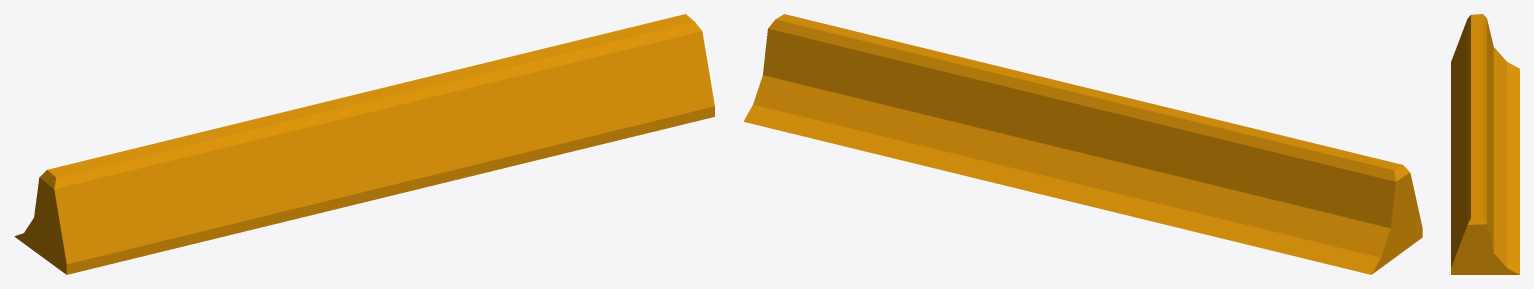
The model's file is SmallBarrier.fbx.
3 views of the same model, side by side, from view 1: azimuth 30°, elevation 25°; view 2: azimuth 150°, elevation 25°; view 3: azimuth 270°, elevation 25° (orthographic). The views are drawn at different scales.
Visible parts, largest first — view 1: SmallBarrier; view 2: SmallBarrier; view 3: SmallBarrier.
Part boxes in pixels (left/top/right/bottom): SmallBarrier: left=14, top=14, right=714, bottom=274; SmallBarrier: left=743, top=14, right=1422, bottom=274; SmallBarrier: left=1451, top=14, right=1519, bottom=274.
Bounding box in the file's own units: 9.7 × 1.23 × 1.37.
